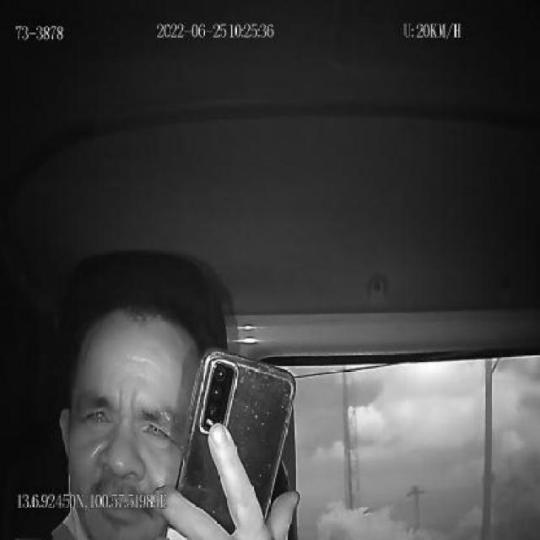phone: (168, 347, 297, 540)
